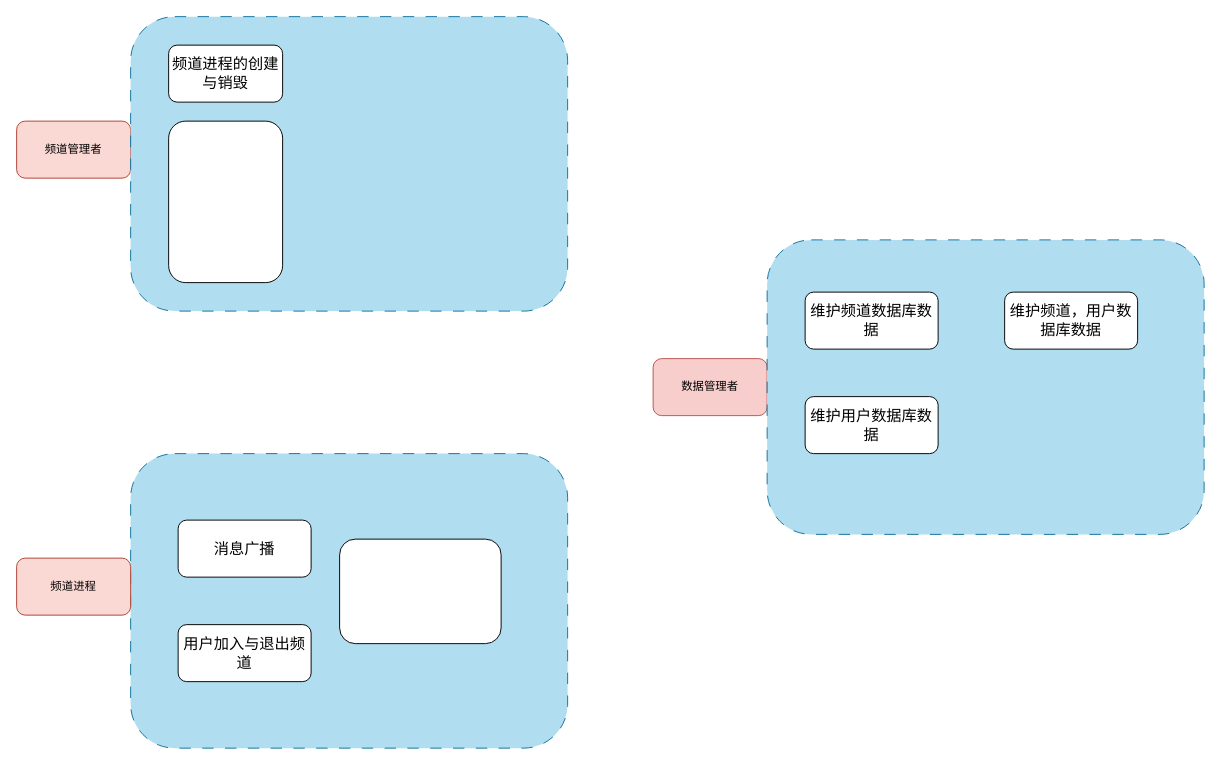
Image size: 1221x765. Some labels were removed from this diagram. Here are the shapes that lost their labels. From the top down, the centre of each, then its label:
point (225, 201): 维护频道名字与频道进程pid的对应关系并提供查询
point (420, 591): 维护频道与对应用户及其对应进程pid的关系 [{userName,pid}]
